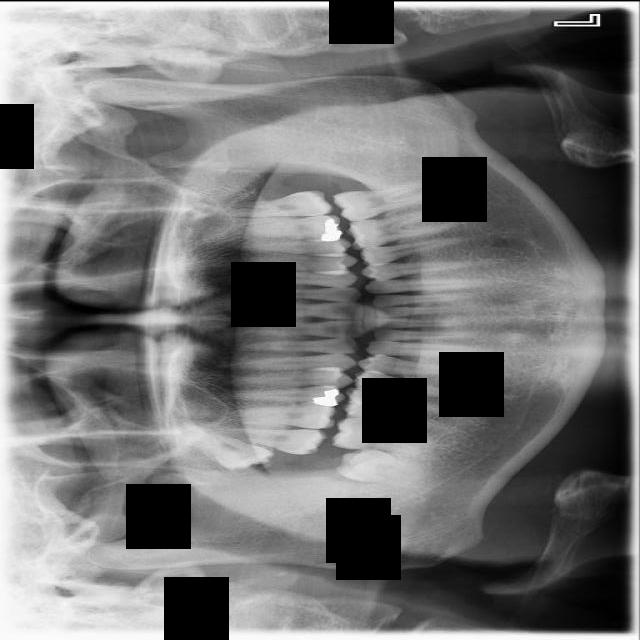3M ESPE Implant: (177, 421, 276, 482)
52: (302, 213, 343, 243), (305, 382, 346, 407)
73: (618, 8, 624, 15)
BioHorizons Implant: (212, 188, 334, 222)
Blue Sky Bio Implant: (331, 179, 434, 224)
Caries: (214, 425, 328, 455)
Implant: (330, 414, 436, 457)
Keystone Dental Implant: (334, 440, 430, 495)
